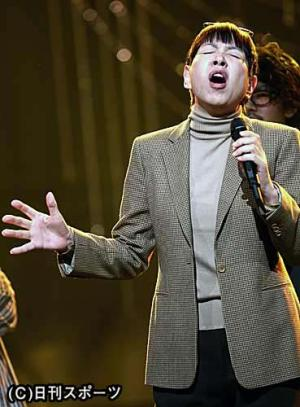face: (183, 32, 257, 107)
hand: (1, 191, 70, 255)
